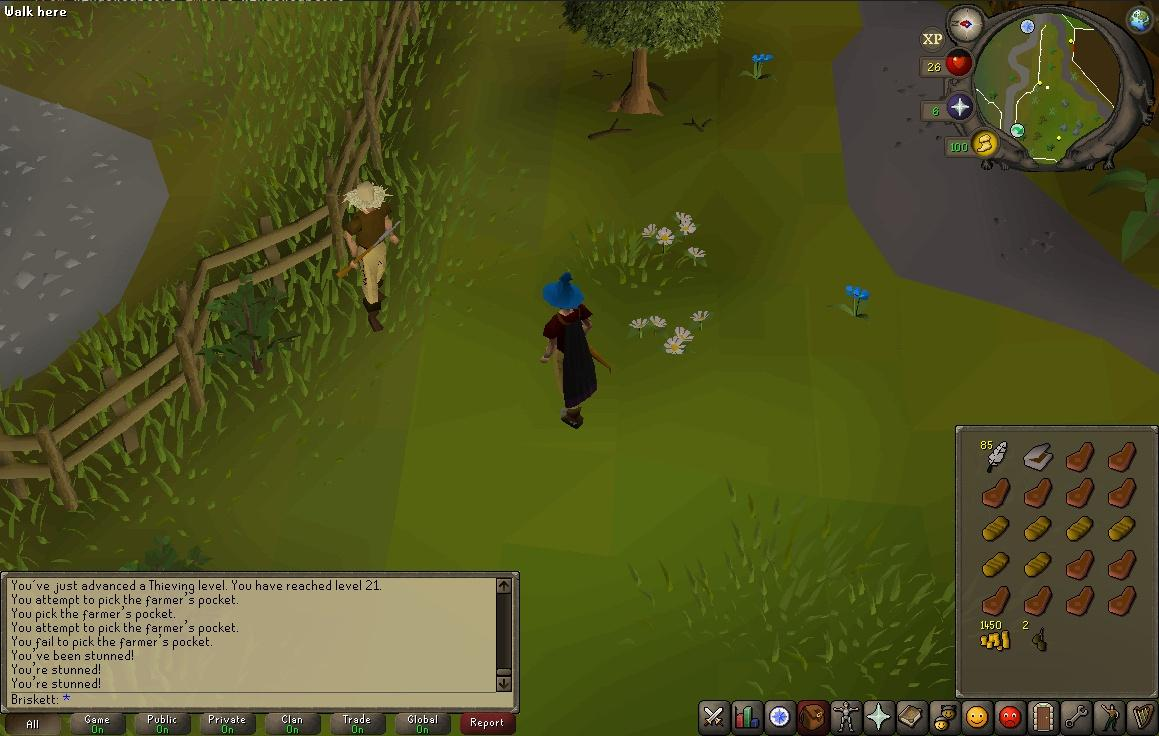Farmer: (337, 181, 400, 333)
